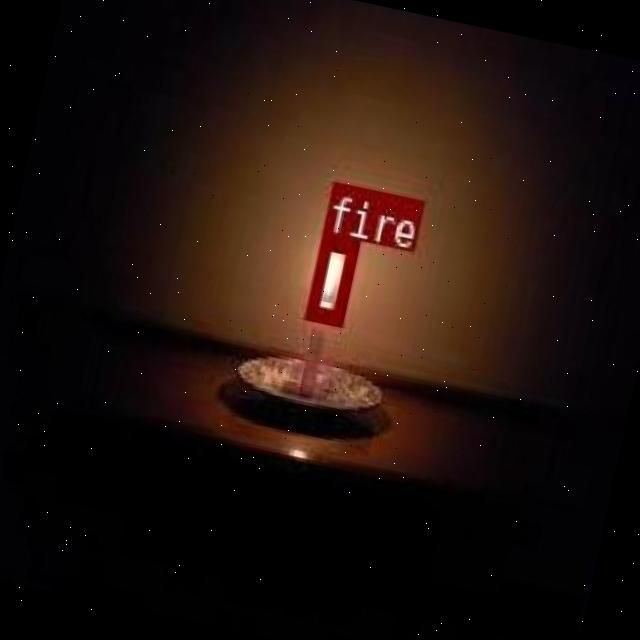fire: (304, 232, 358, 322)
